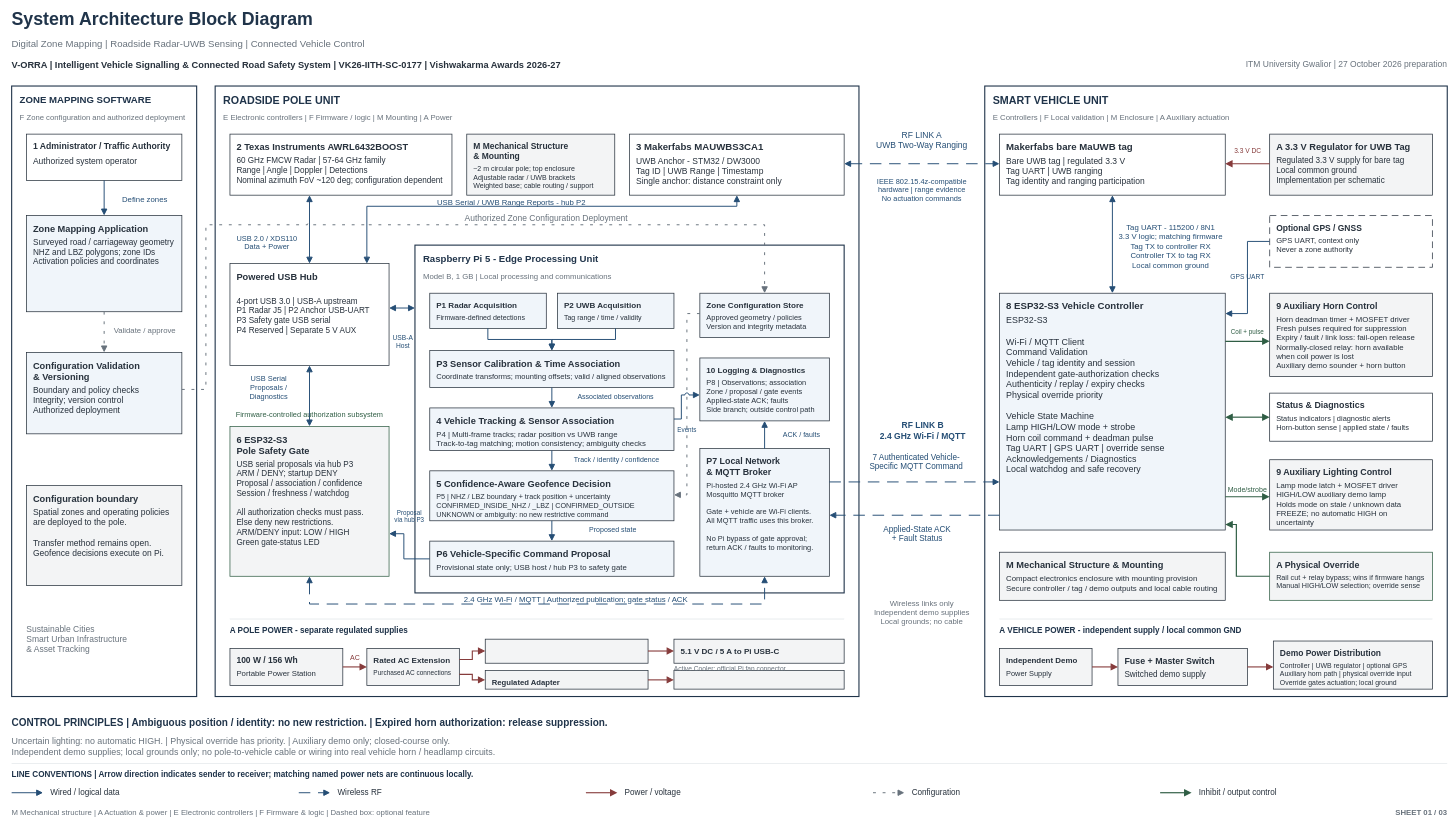
This 1454x823 diagram has some shape labels left out. The box of each missing label's shape, as (x1, y1, x2, y2) in pixels:
Official Raspberry Pi 27 W USB-C Supply: (485, 639, 648, 663)
Regulated DC to Hub AUX: (673, 670, 844, 689)
